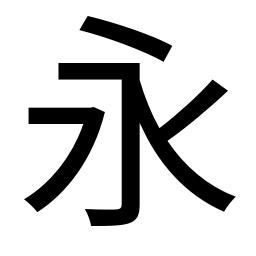D: (78, 15, 175, 51)
HSZ: (108, 60, 144, 96)
Hs: (55, 60, 100, 83)
Ne: (198, 182, 238, 214)
PNc: (145, 109, 183, 151)
PZe: (22, 188, 57, 215)
Ps: (201, 78, 229, 110)
SG: (83, 198, 143, 228)
Sm: (117, 146, 142, 187)
TPZ: (67, 104, 107, 149)
Ts: (25, 105, 58, 128)
